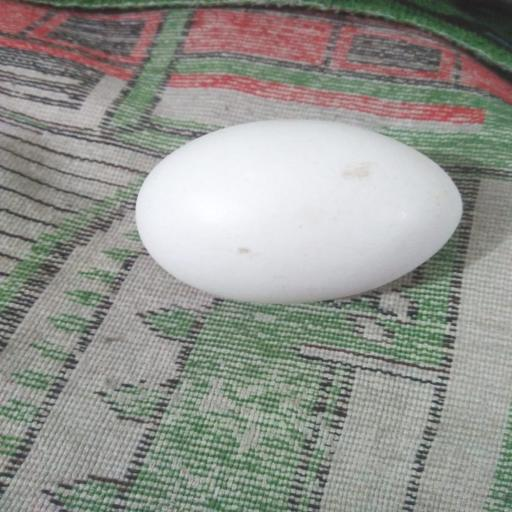telur: (120, 111, 470, 315)
